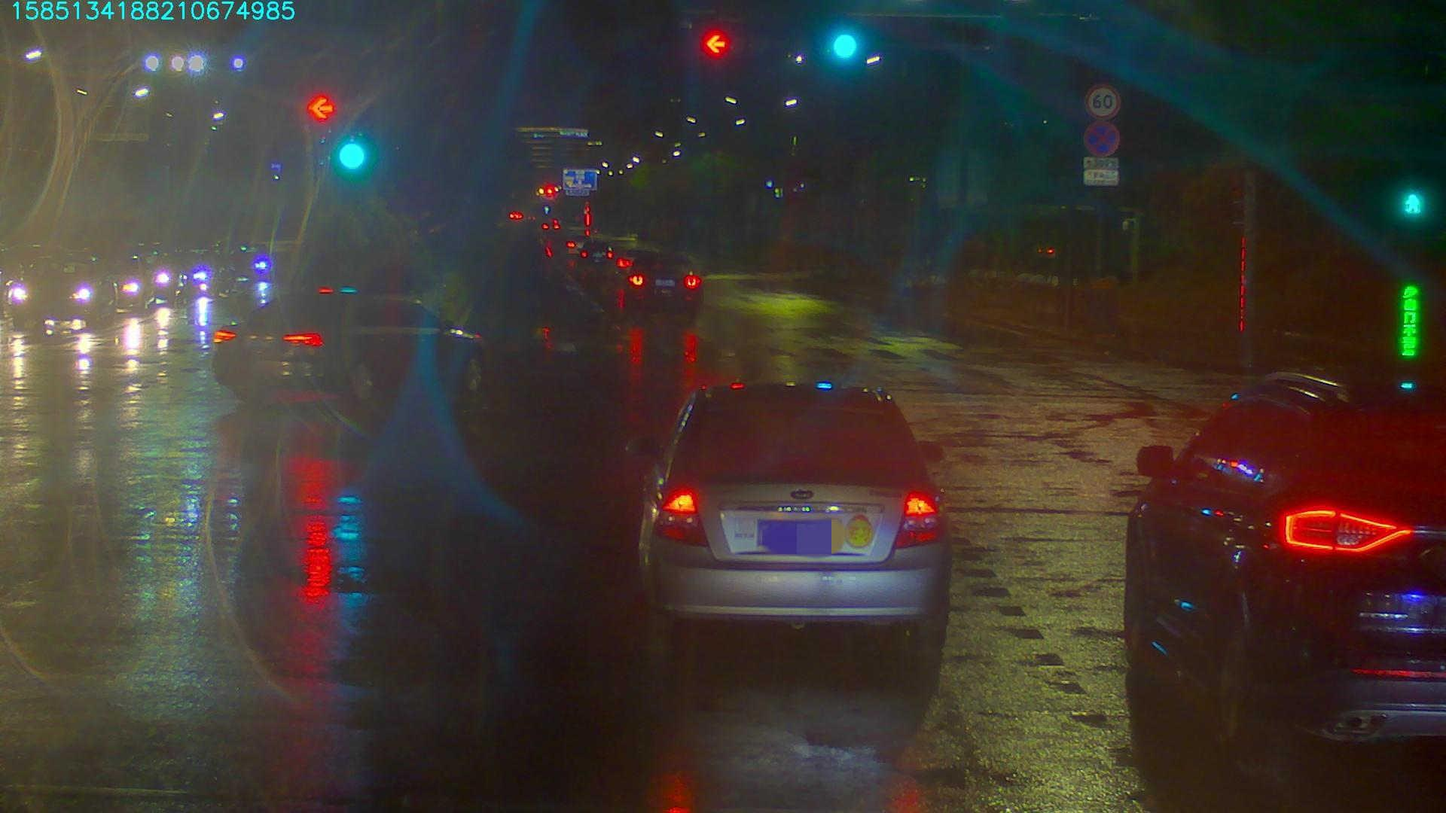green: (828, 32, 862, 67)
red: (704, 26, 727, 64)
